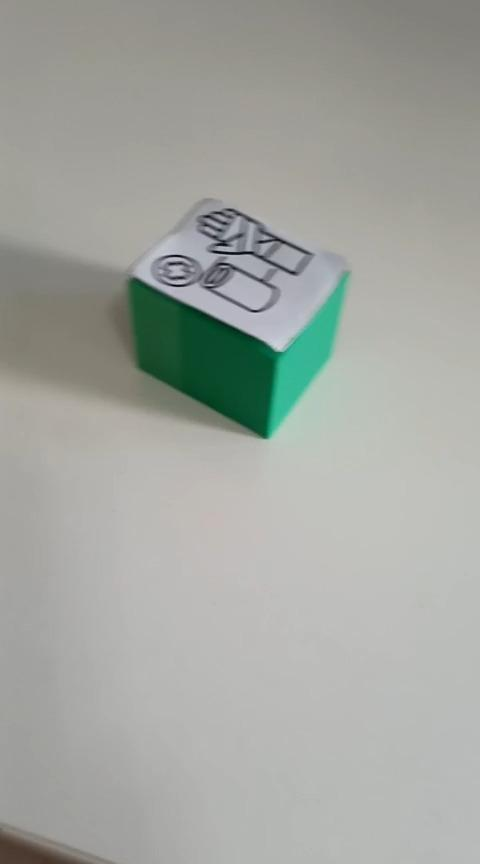Bandages: (125, 196, 351, 439)
